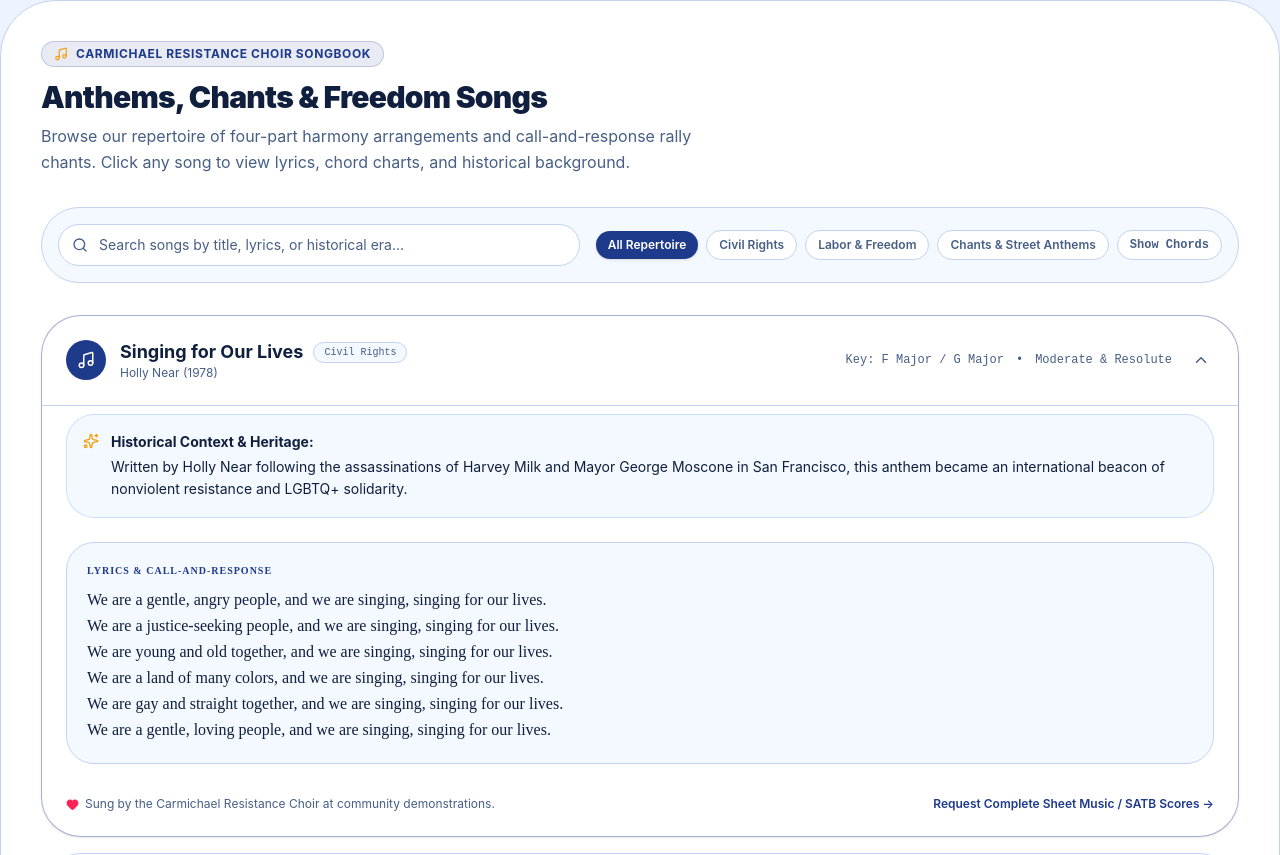
Test: ChoirSongbookExplorer › filters songs by category filter button
Click the button "Labor & Freedom" at [867, 245], box [805,230,930,260]
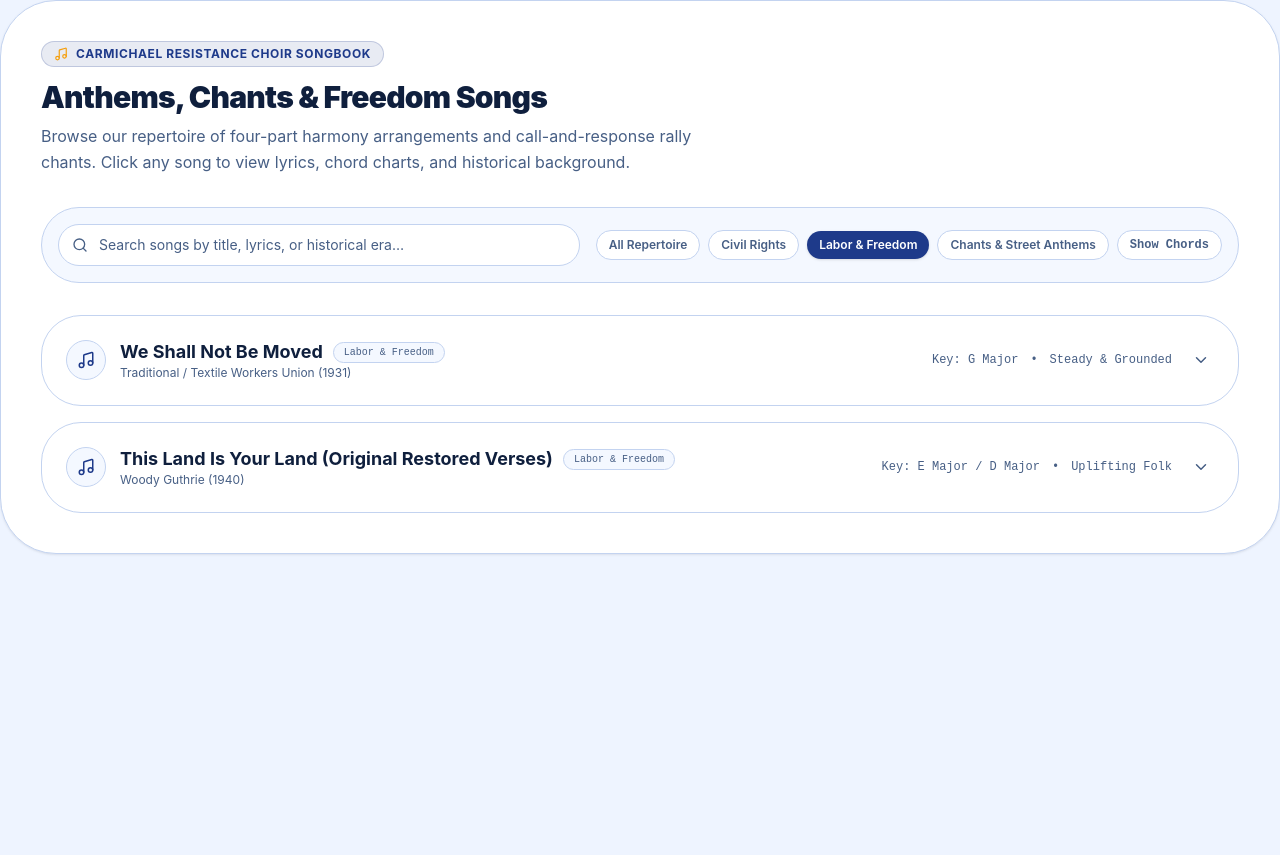
Expected: the text "We Shall Not Be Moved" is shown, [120,340,323,365]
Result: the text "Singing for Our Lives" is gone
